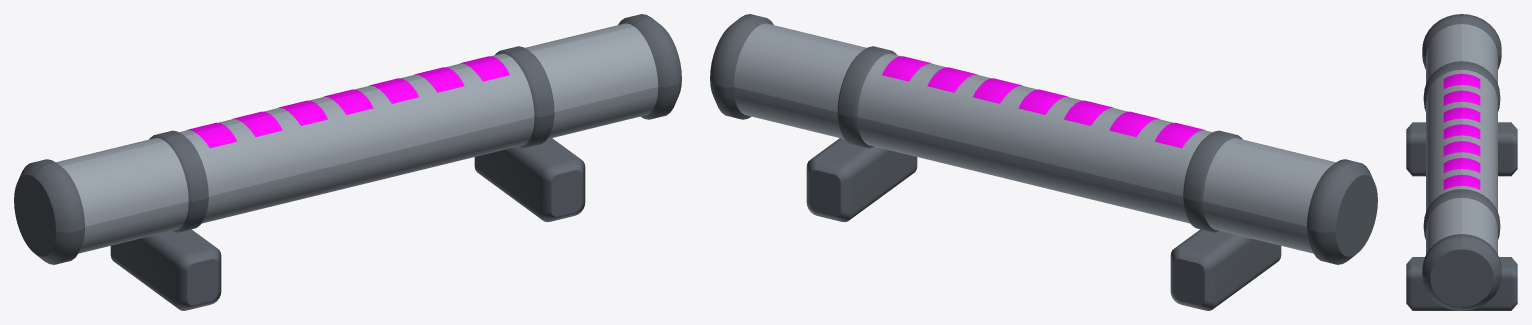
File: objet_barre_uranium.glb
3 renders of one model, left to right at view 1: azimuth 30°, elevation 25°; view 2: azimuth 150°, elevation 25°; view 3: azimuth 270°, elevation 25°, orthographic. The views are drawn at different scales.
Visible parts, largest first — view 1: barre_acier_doux.002, barre_acier_doux_sombre.002, barre_teinte.002; view 2: barre_acier_doux.002, barre_acier_doux_sombre.002, barre_teinte.002; view 3: barre_acier_doux_sombre.002, barre_acier_doux.002, barre_teinte.002.
Part boxes in pixels (x1,y1,x2,y2): barre_acier_doux.002: (56, 23, 658, 253); barre_acier_doux_sombre.002: (14, 14, 681, 310); barre_teinte.002: (187, 56, 509, 148); barre_acier_doux.002: (733, 23, 1335, 253); barre_acier_doux_sombre.002: (710, 14, 1377, 310); barre_teinte.002: (882, 56, 1204, 148); barre_acier_doux_sombre.002: (1406, 14, 1517, 310); barre_acier_doux.002: (1426, 24, 1497, 254); barre_teinte.002: (1443, 73, 1480, 189).
Size of the model in its own units: 0.344 by 0.0775 by 0.07.
